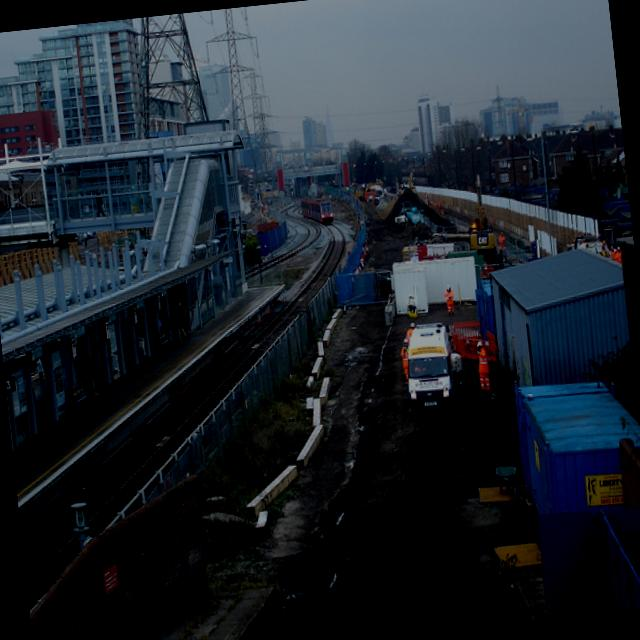Vehicle: (396, 319, 468, 419), (399, 318, 462, 419), (408, 238, 484, 272), (393, 206, 408, 230)
